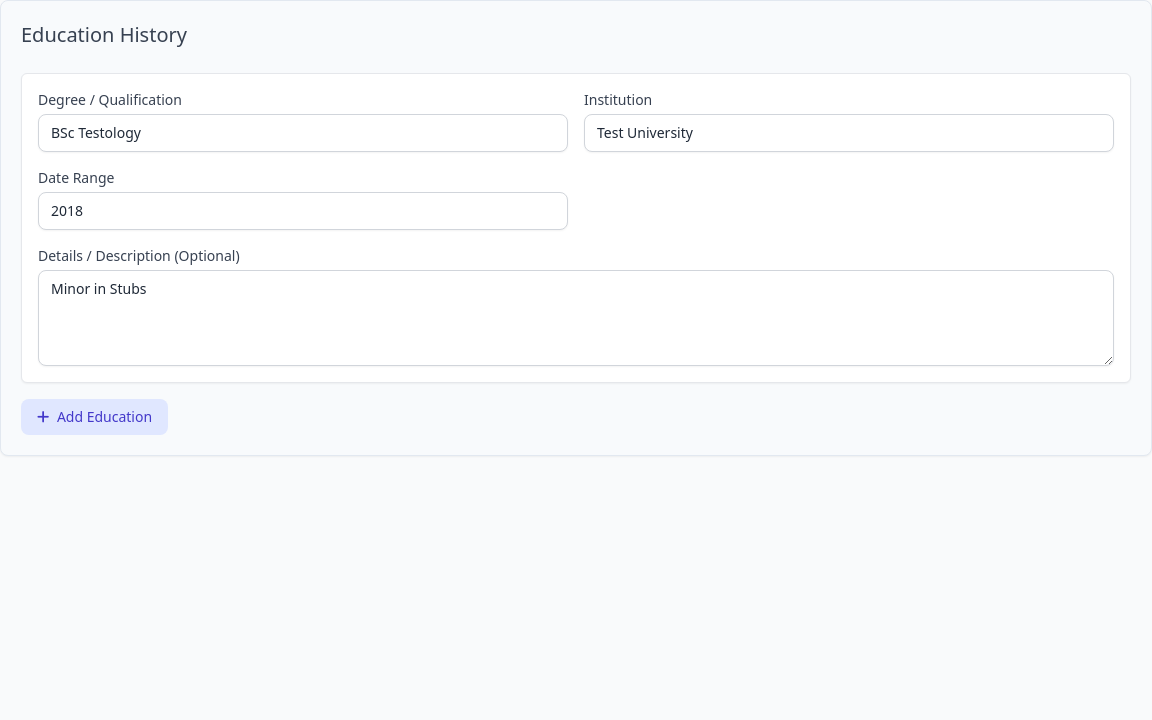
Test case: EducationEditor.vue › adds a new item when "Add Education" is clicked
Click the button "Add Education": x=95, y=417 [21,399,168,435]
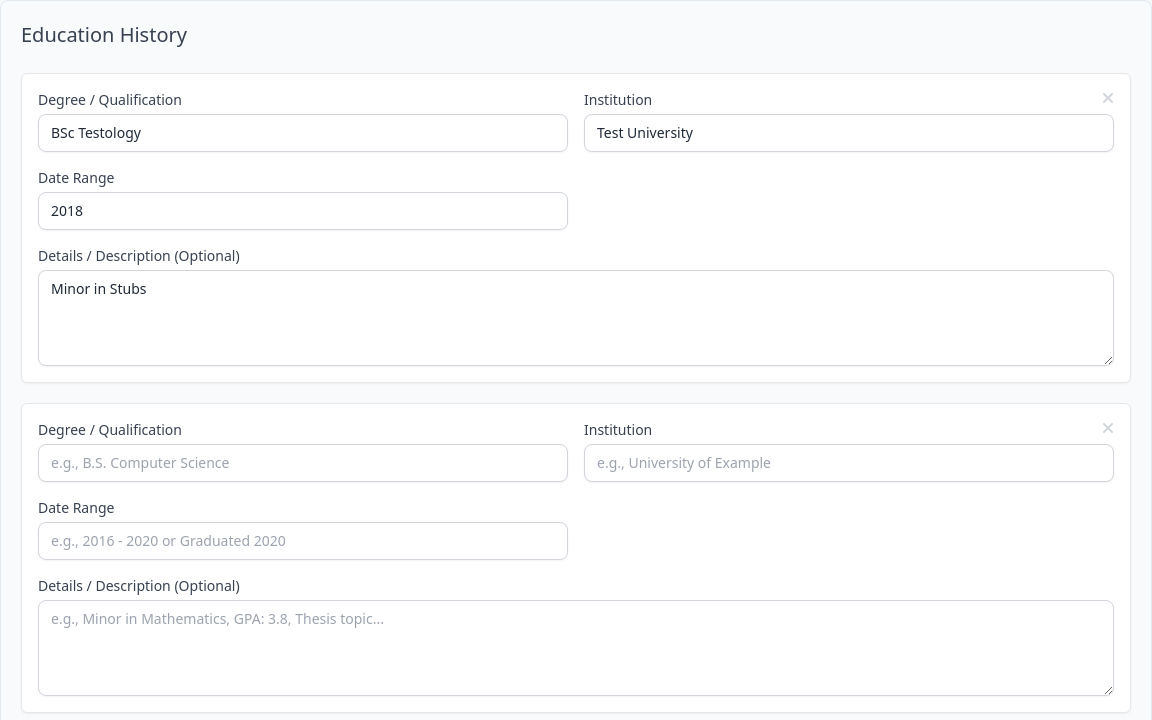
Expected: the number of fields labelled "Degree / Qualification" is 2, [38,114,568,152]; [38,444,568,482]
